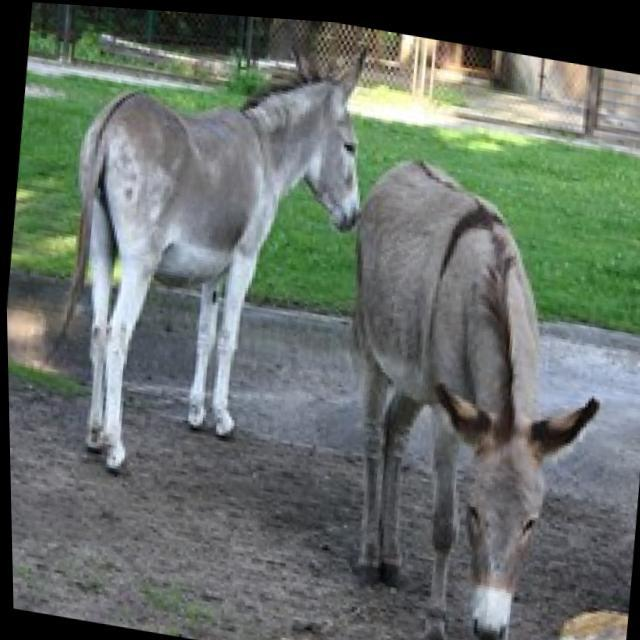Donkey: (0, 0, 393, 532), (292, 109, 612, 640)
